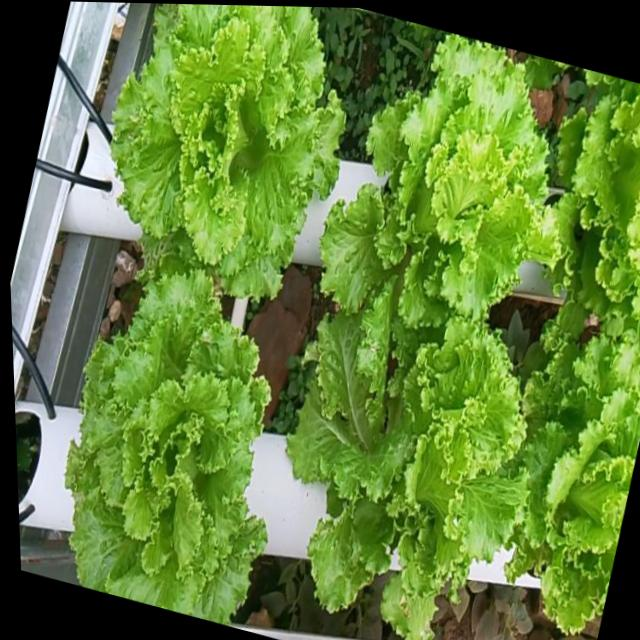Mature: (290, 311, 531, 640), (70, 253, 275, 624), (324, 35, 556, 348), (116, 4, 350, 295), (511, 336, 640, 635), (559, 77, 640, 333)
